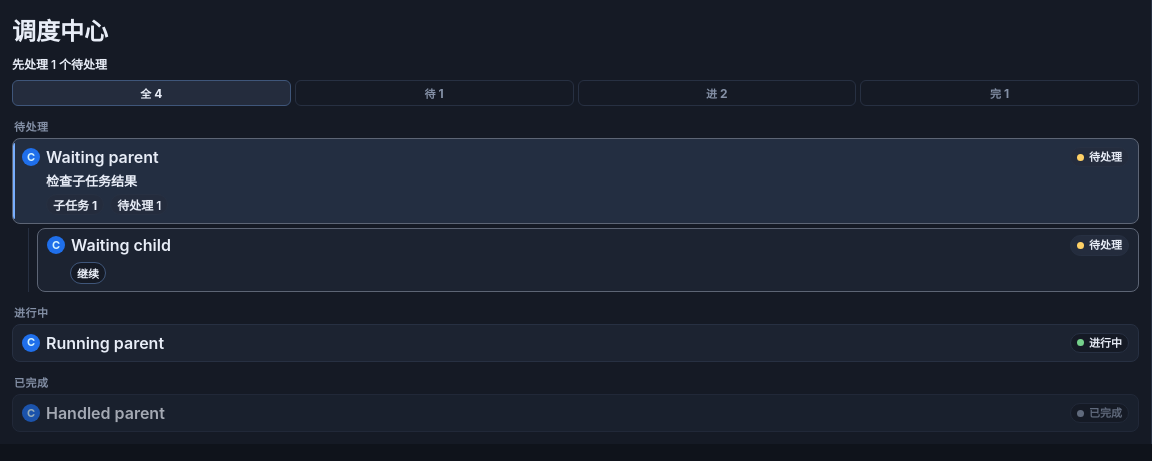
Test: SessionRadar › filters session groups without breaking parent and child context
Click the button named "进行中" at (717, 93), box [578,80,856,106]
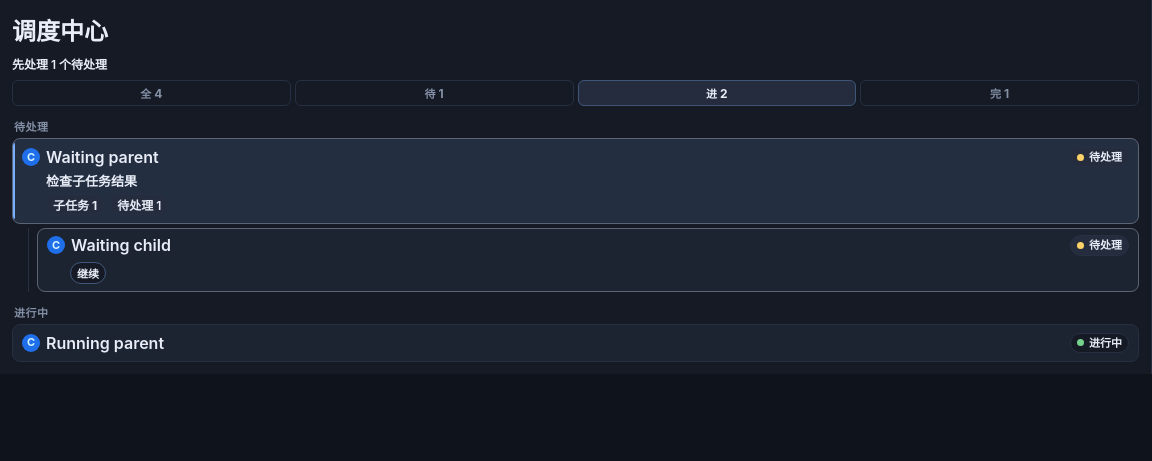
Expected: the text "Waiting parent" is shown, [46,147,159,167]
Expected: the button "Handled parent" is gone
Click the button named "已完成" at (1000, 93), box [860,80,1139,106]
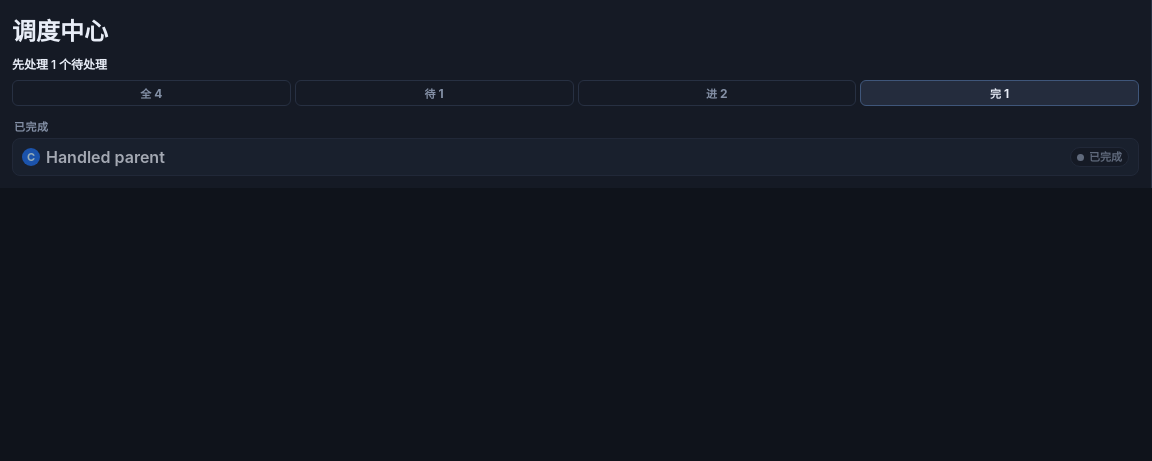
Expected: the text "Handled parent" is shown, [46,147,165,167]
Expected: the button "Waiting parent" is gone
